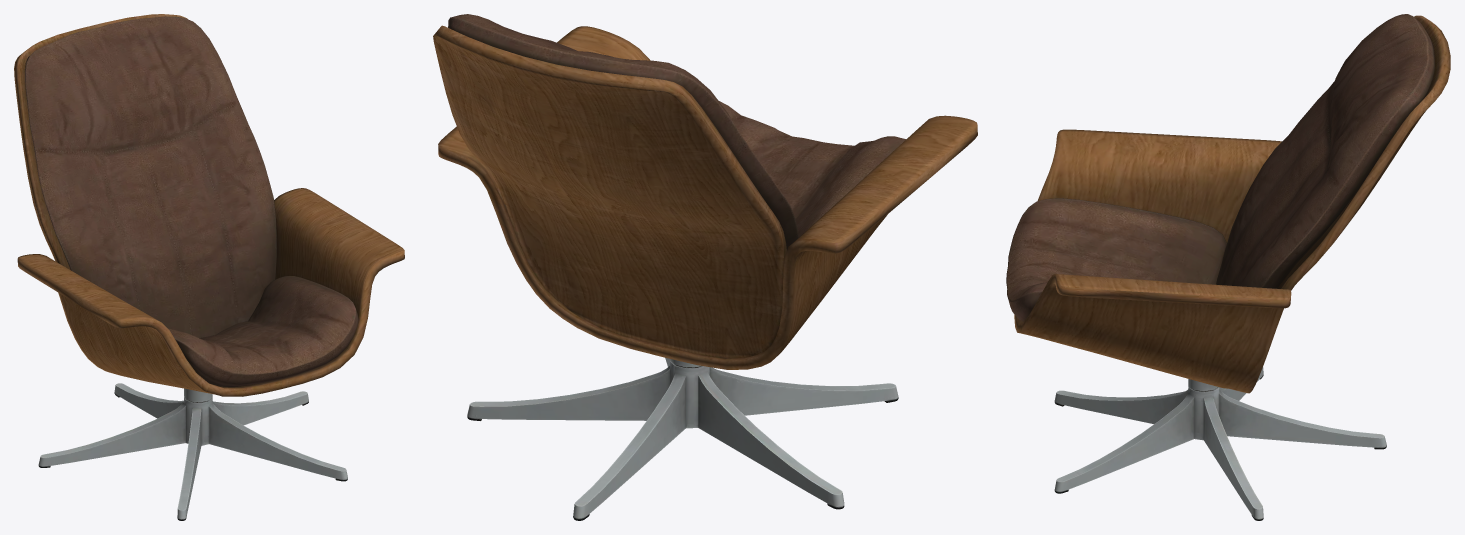
The model's file is ph_lounge_chair.glb.
3 renders of one model, left to right at view 1: azimuth 30°, elevation 25°; view 2: azimuth 150°, elevation 25°; view 3: azimuth 270°, elevation 25°, orthographic. The views are drawn at different scales.
Visible parts, largest first — view 1: mid_century_lounge_chair; view 2: mid_century_lounge_chair; view 3: mid_century_lounge_chair.
Part boxes in pixels (bbox=[...]): mid_century_lounge_chair: bbox=[14, 14, 404, 520]; mid_century_lounge_chair: bbox=[433, 14, 977, 520]; mid_century_lounge_chair: bbox=[1006, 14, 1450, 520].
Size of the model in its own units: 1.01 by 1.17 by 1.19.
Materials: 1 (1 with a texture image).
